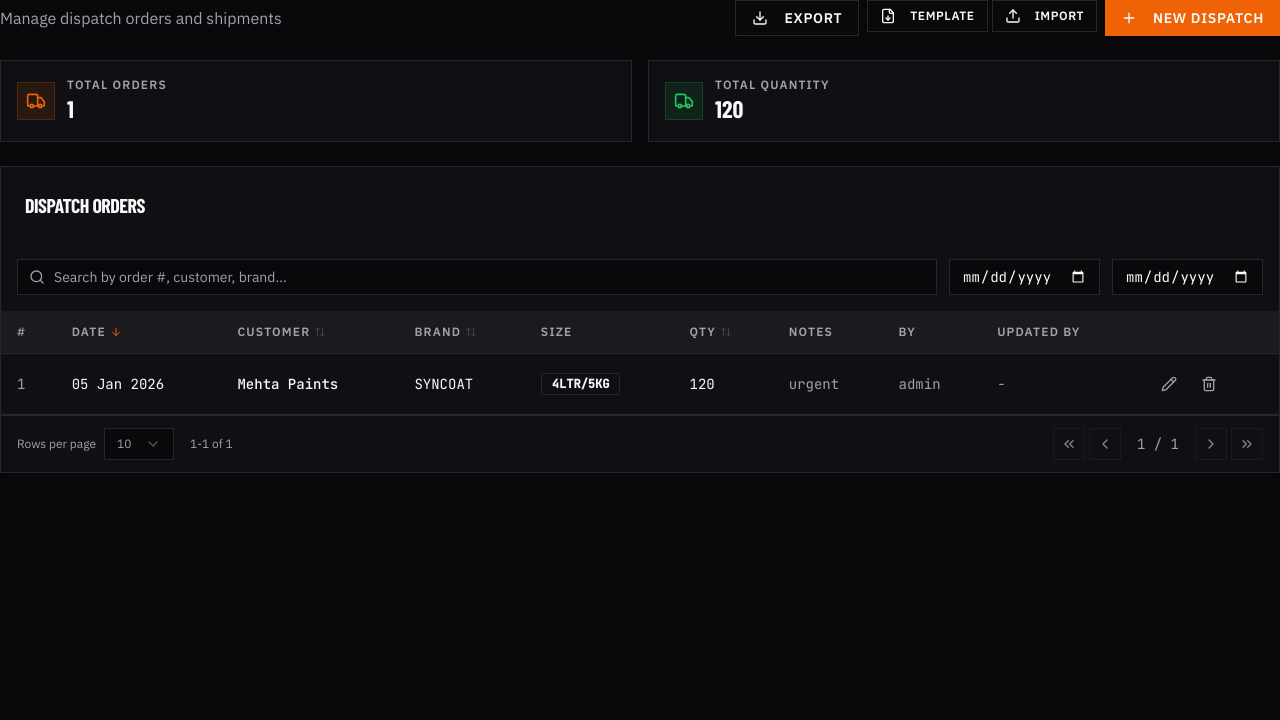
refuses to stage an item with quantity -5
This screenshot has width=1280, height=720.
expect the table with test id "dispatch-table" is shown: met, box [1, 311, 1279, 415]
Click the button with test id "add-dispatch-btn": [1192, 18] box [1105, 0, 1279, 36]
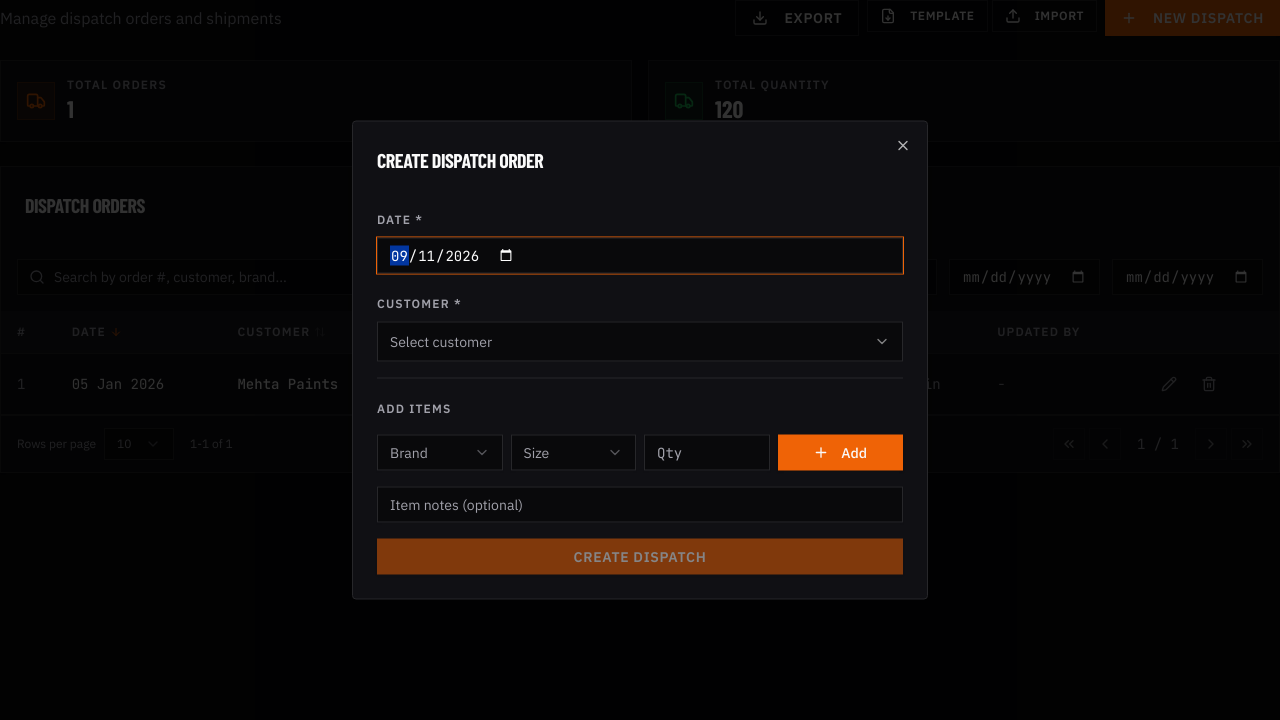
In the number field with test id "dispatch-quantity": [707, 452] box [644, 434, 770, 470], type "-5"
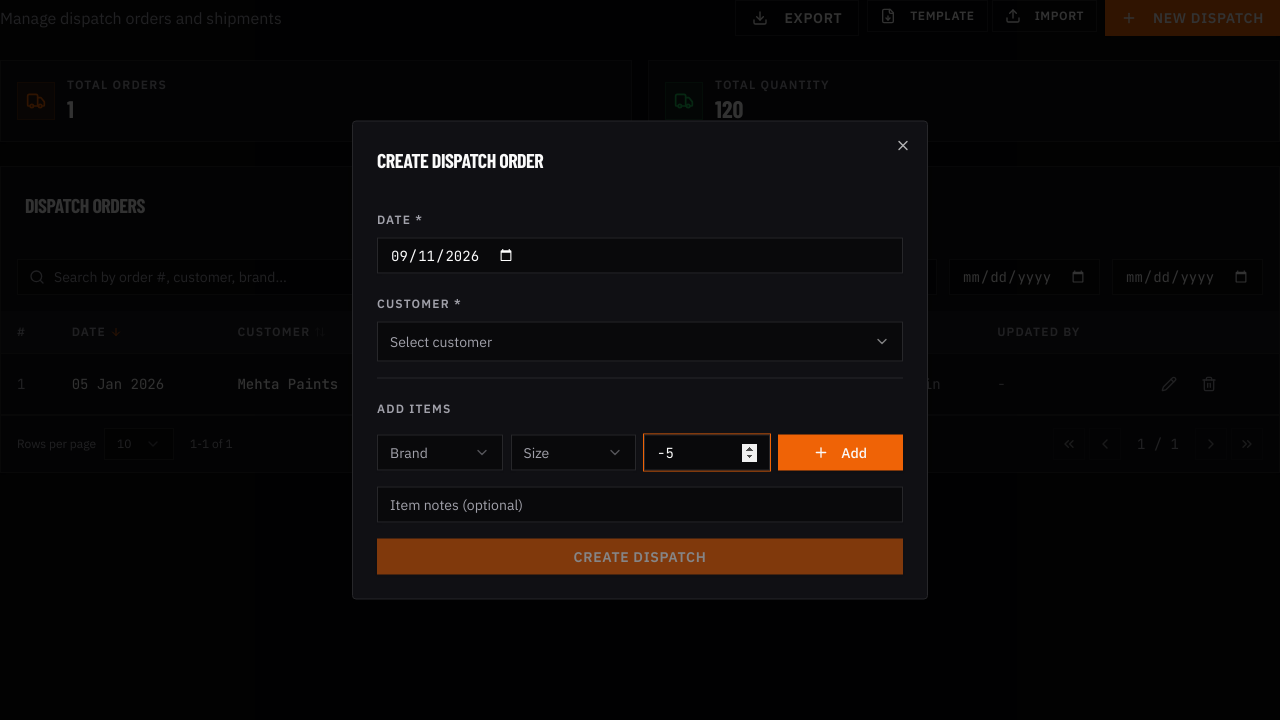
Click the button with test id "add-item-btn": [840, 452] box [778, 434, 903, 470]
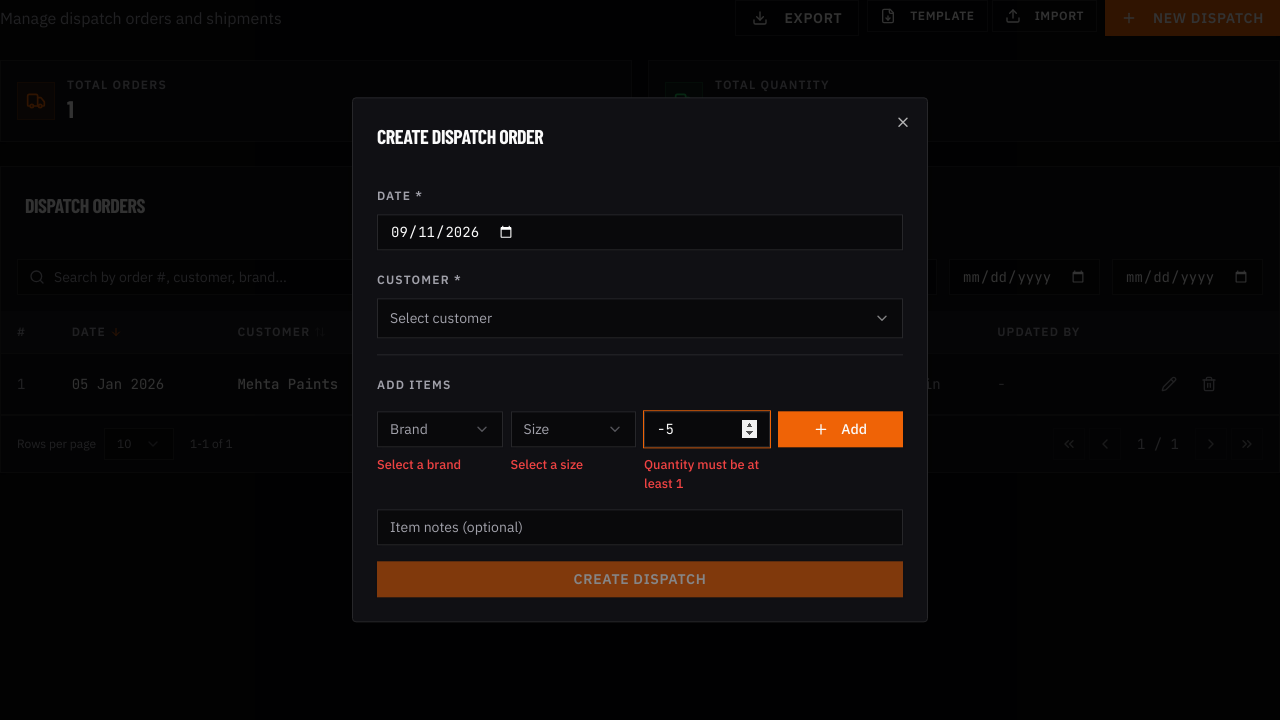
expect the text "Quantity must be at least 1" is shown: met, box [644, 455, 770, 494]
